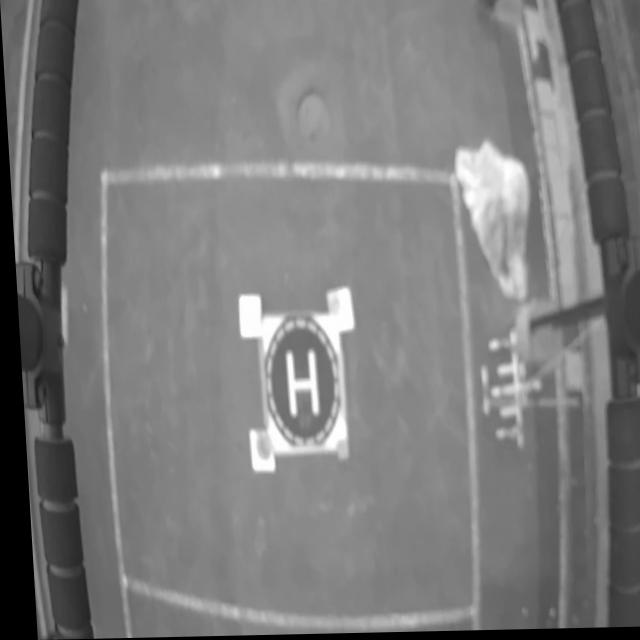Helipad: (281, 352, 316, 417)
